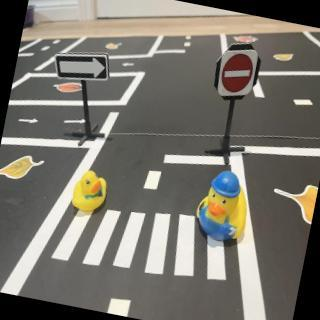duck_regular: (69, 166, 112, 216)
duck_specialty: (190, 165, 258, 249)
road_crosswalk: (48, 183, 243, 295)
road_oneway: (17, 115, 42, 130), (64, 115, 89, 129), (120, 60, 137, 70)
sign_noentry: (215, 44, 262, 102)
sign_oneway_right: (52, 43, 114, 90)
